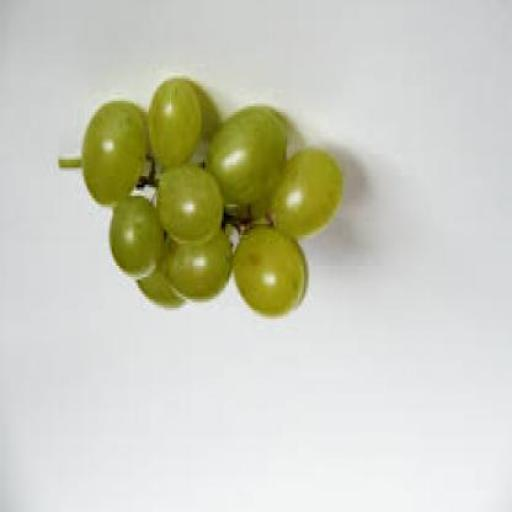biodegradable: (203, 109, 287, 212), (231, 226, 307, 322), (265, 151, 341, 244), (81, 104, 147, 210), (153, 162, 224, 248), (160, 226, 231, 306), (147, 78, 201, 171), (108, 196, 164, 282), (134, 254, 182, 311)
